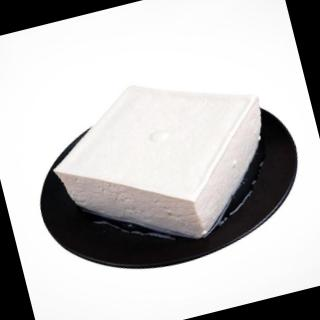Tahu: (36, 51, 304, 273)
